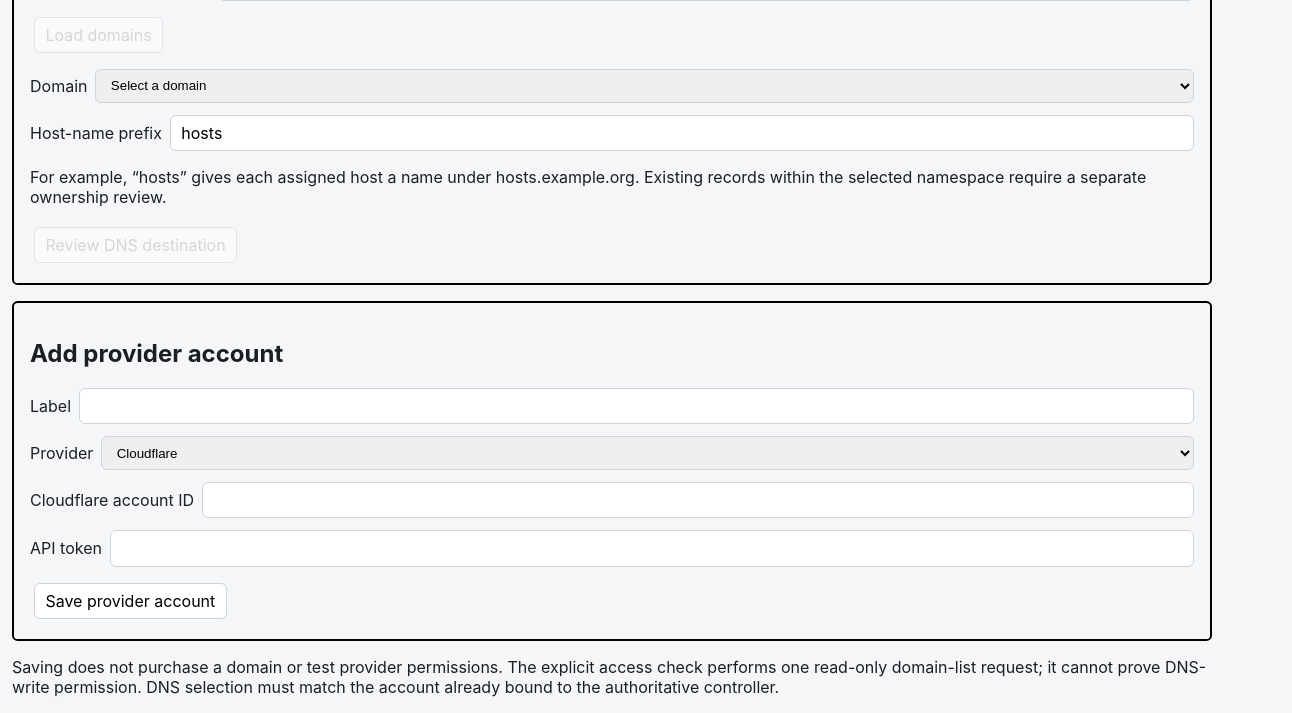
Test: provider passwords are masked and erased after saving; Porkbun limitation explicit
The width and height of the screenshot is (1292, 713).
(page scrolled)
Expected: the button "Save provider account" is enabled, [34,583,227,619]
Type "DNS" into the field labelled "Label". click: coordinates (636, 406)
box: [79,388,1194,424]
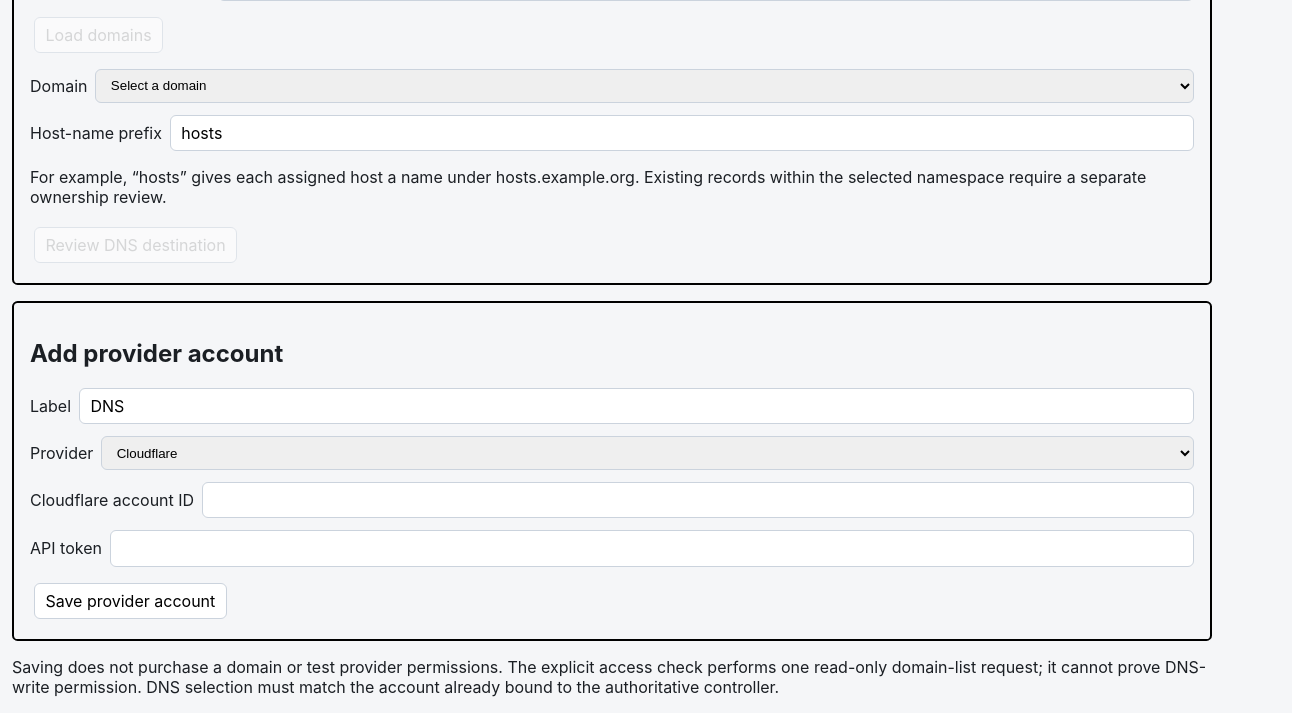
Type "aaaaaaaaaaaaaaaaaaaaaaaaaaaaaaaa" into the field labelled "Cloudflare account ID". click: coordinates (698, 500)
box: [202,482,1194,518]
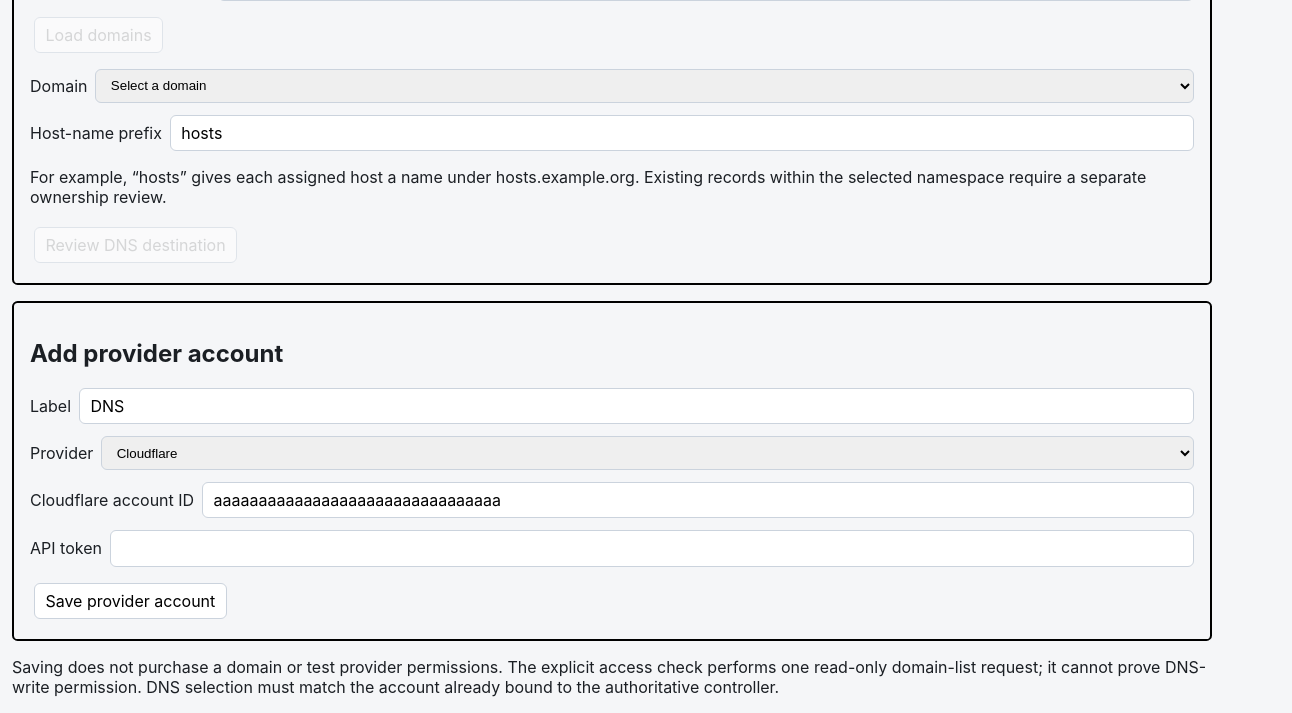
Type "private-token" into the password field labelled "API token". click: coordinates (652, 548)
box: [110,530,1194,567]
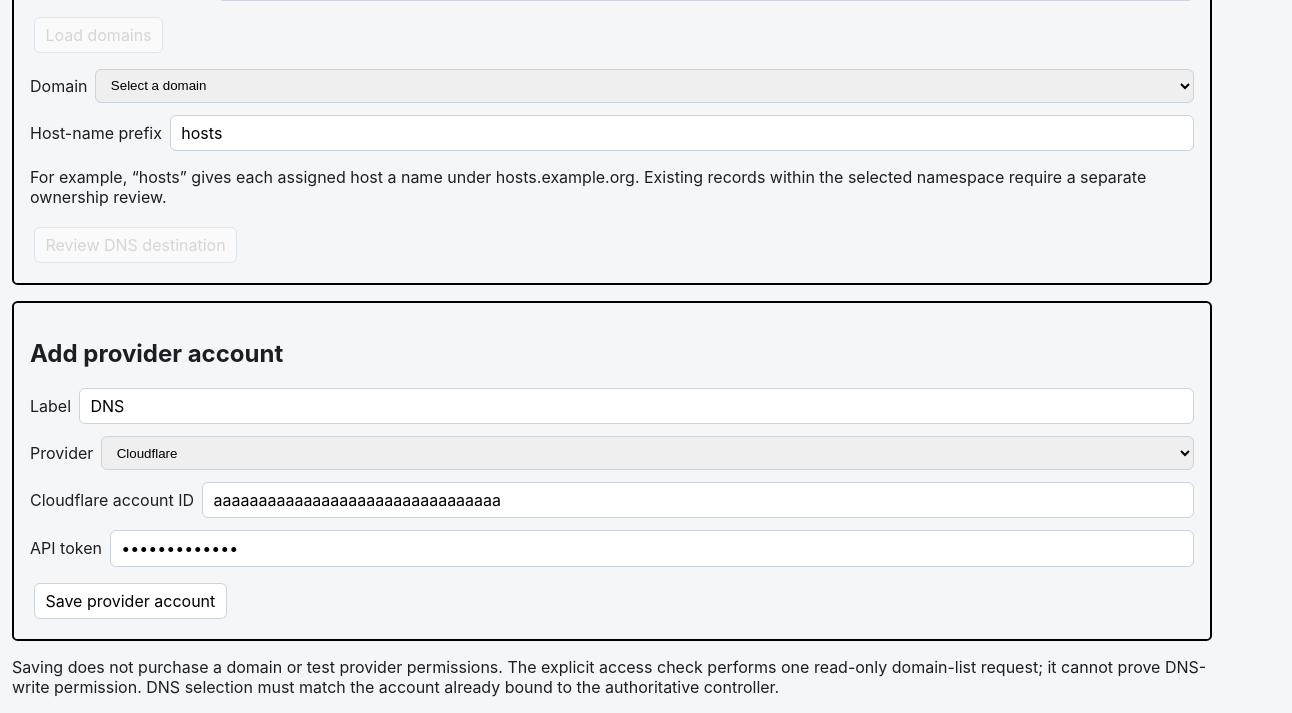
Submit the form labelled "API token", box [12,301,1212,641]
(page scrolled)
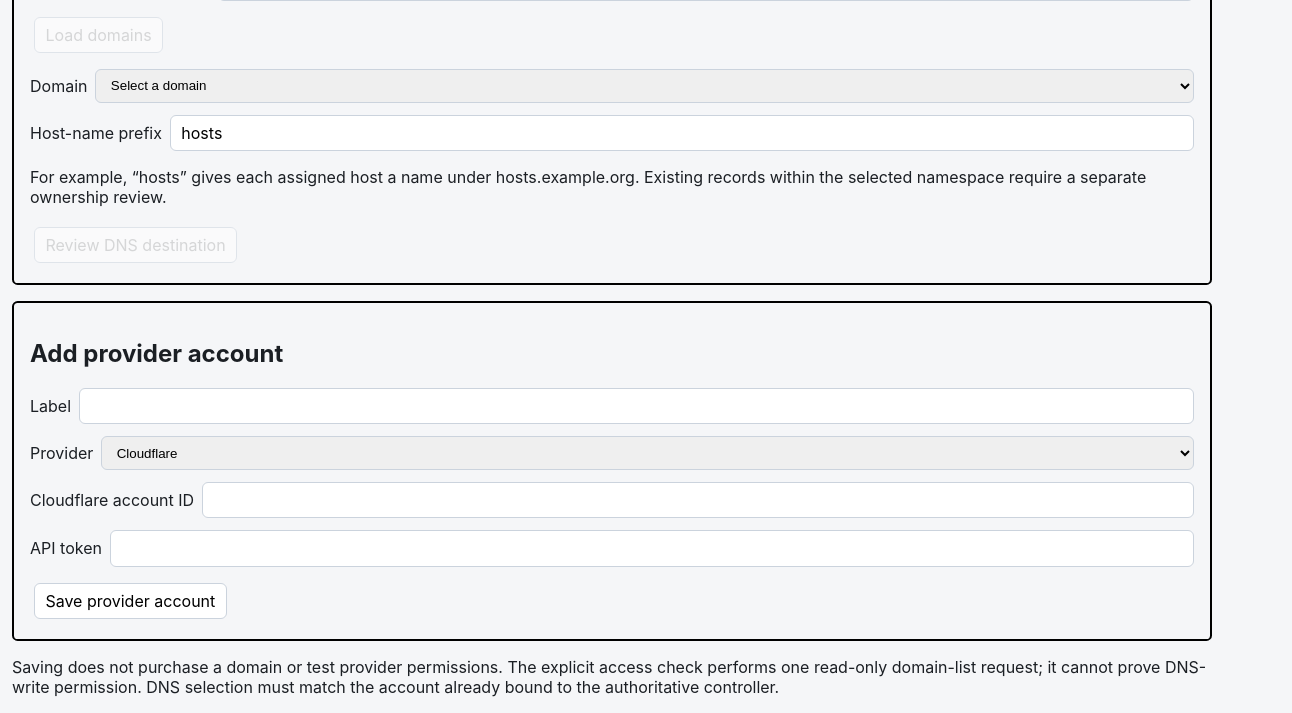
Expected: the password field labelled "API token" is empty, [110,530,1194,567]
Select "Porkbun" in the dropdown labelled "Provider". click: coordinates (648, 453)
box: [101,436,1194,470]
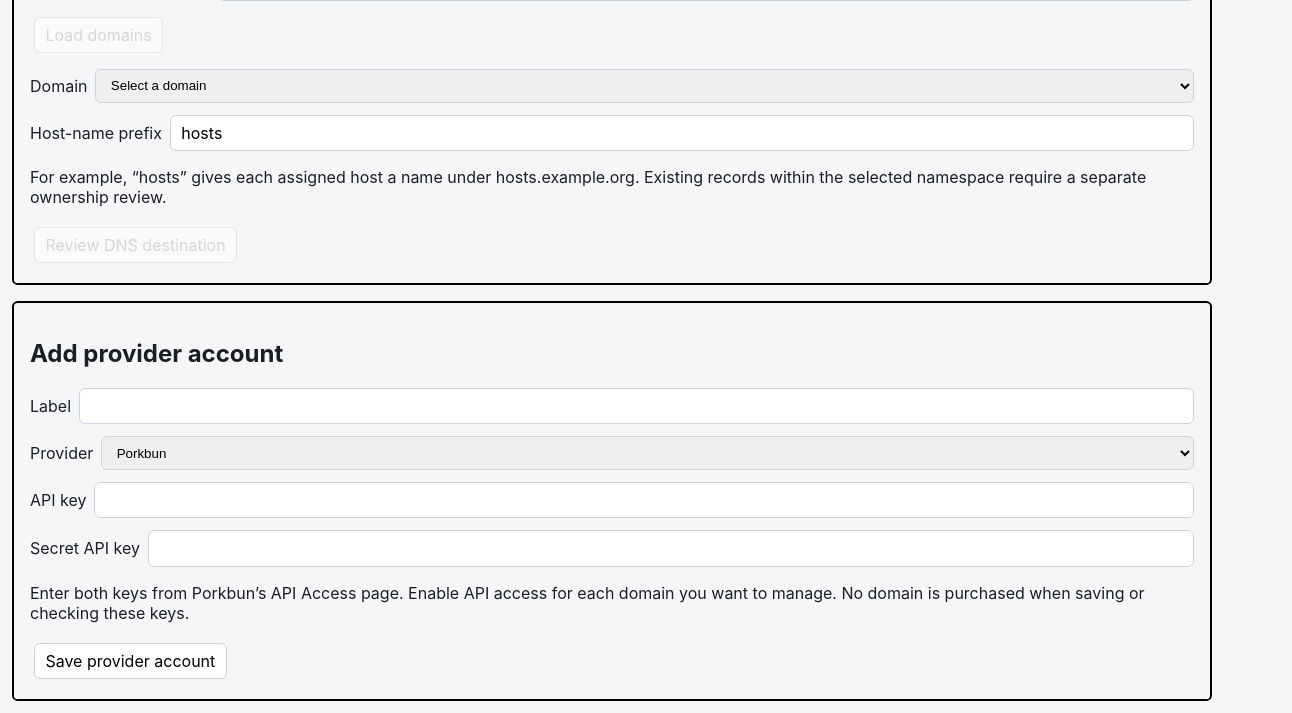
Expected: the text "Enter both keys" is shown, [30,583,1145,623]
